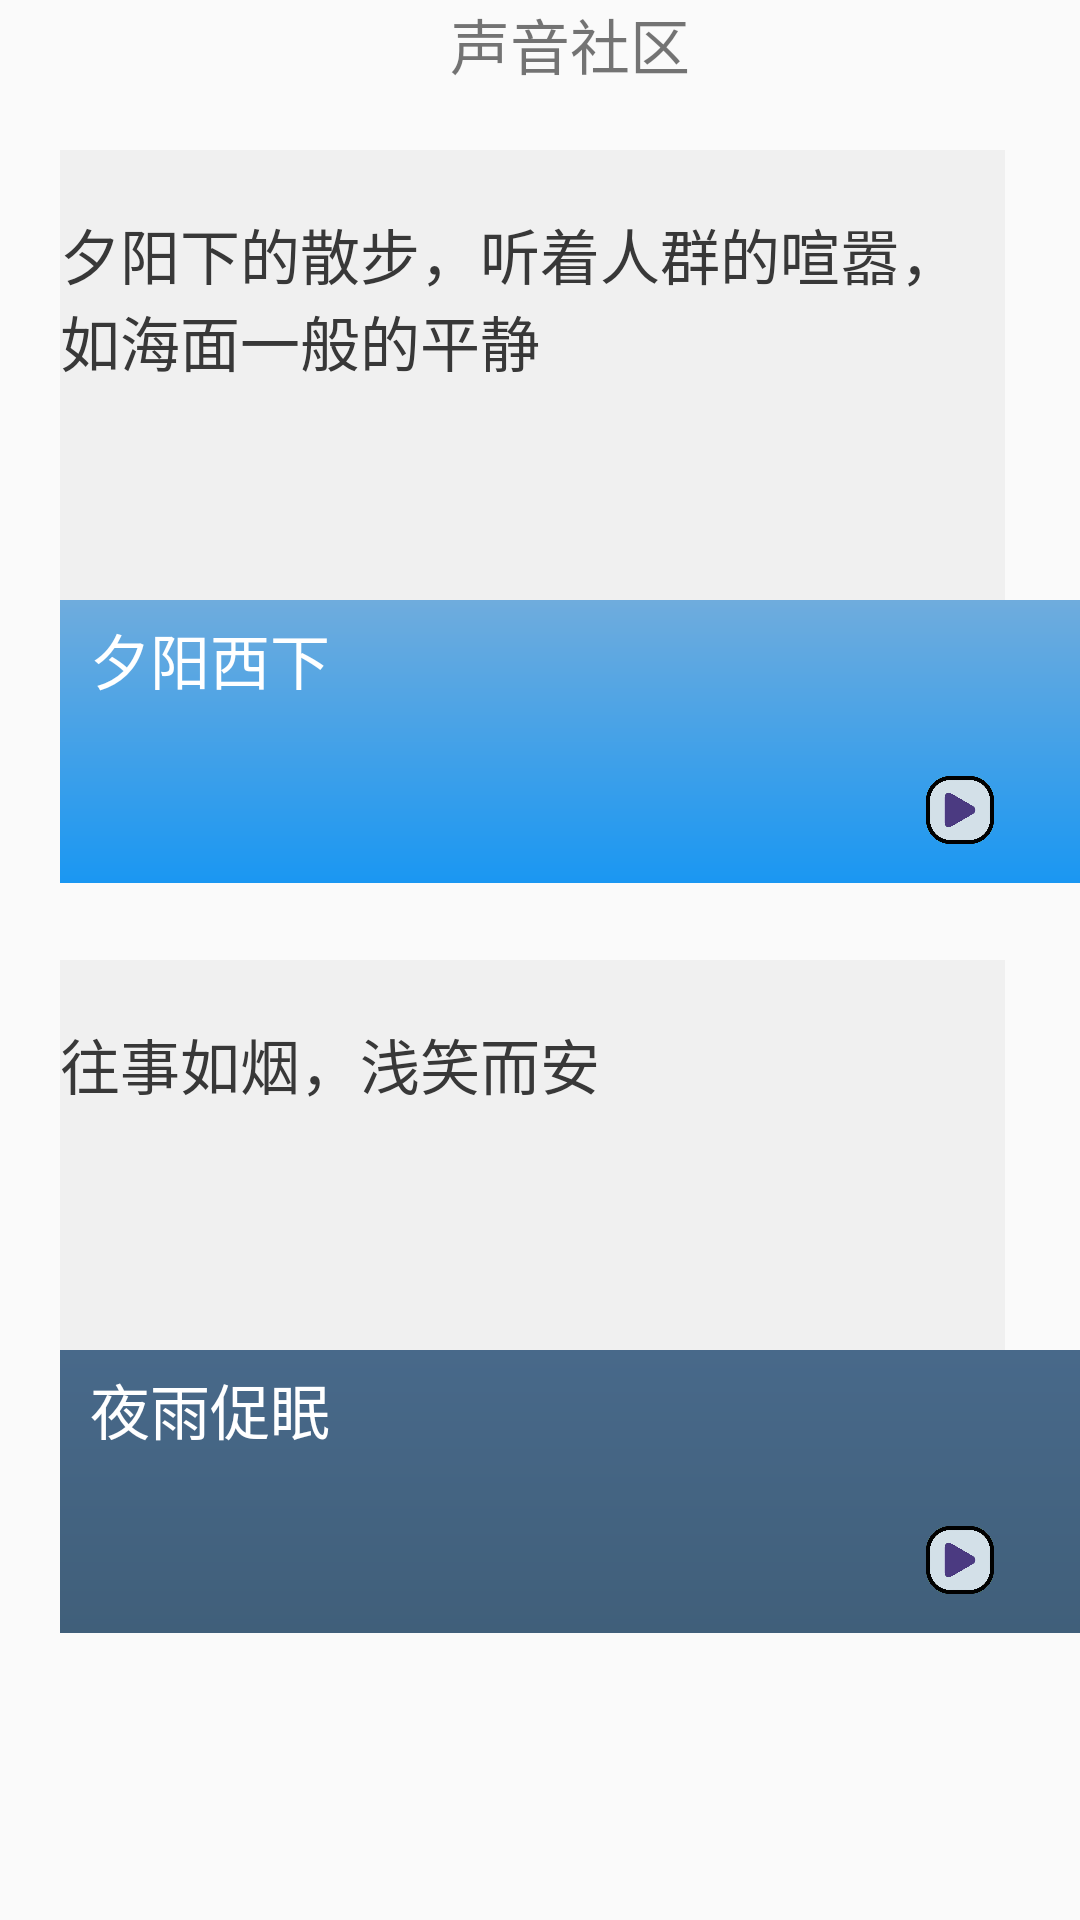

Where to tap for icons on this 1080px x 1920px app screen, as point (x, y):
bofang: point (960, 810), point (960, 1560)
